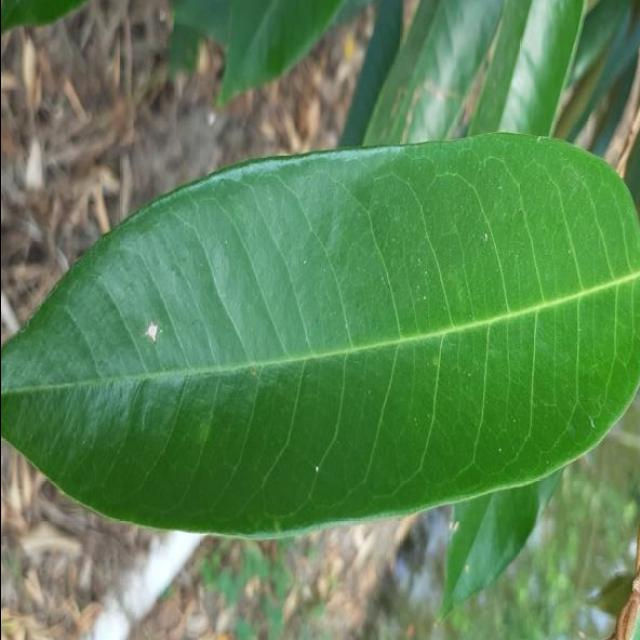No Disease: (0, 114, 640, 556)
